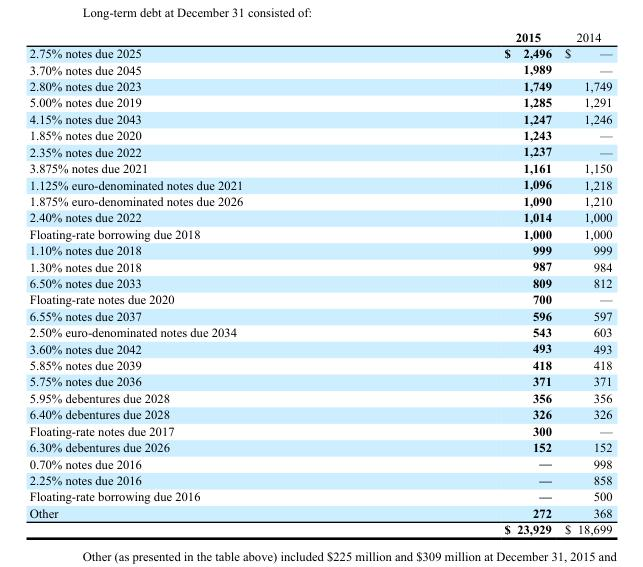table: (28, 29, 611, 535)
table column: (28, 29, 372, 535), (372, 29, 557, 535), (557, 29, 611, 535)
table column header: (28, 29, 611, 44)
table row: (28, 44, 611, 61), (28, 93, 611, 110), (28, 126, 611, 143), (28, 175, 611, 192), (28, 208, 611, 225), (28, 241, 611, 258), (28, 290, 611, 307), (28, 323, 611, 340), (28, 372, 611, 389), (28, 405, 611, 422), (28, 454, 611, 471), (28, 487, 611, 504), (28, 61, 611, 77), (28, 77, 611, 93), (28, 110, 611, 126), (28, 143, 611, 159), (28, 159, 611, 175), (28, 192, 611, 208), (28, 225, 611, 241), (28, 258, 611, 274), (28, 274, 611, 290), (28, 307, 611, 323), (28, 340, 611, 356), (28, 356, 611, 372), (28, 389, 611, 405), (28, 422, 611, 438), (28, 438, 611, 454), (28, 471, 611, 487), (28, 504, 611, 520), (28, 29, 611, 44), (28, 520, 611, 535)
